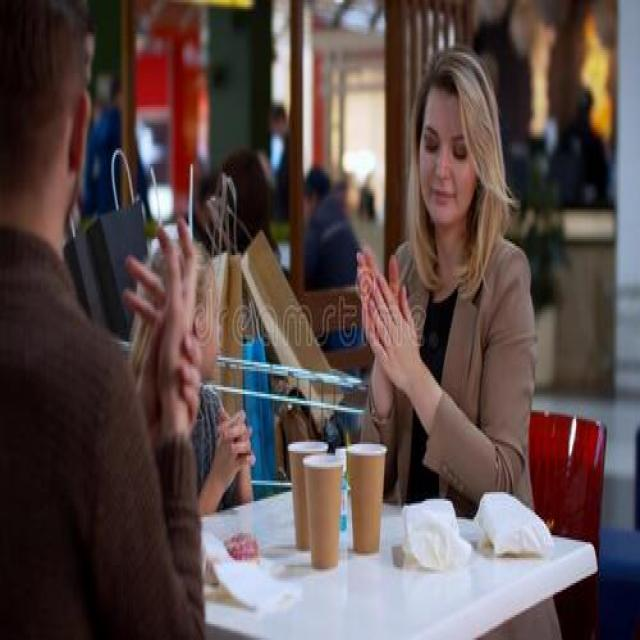sanitizer: (332, 442, 348, 528)
